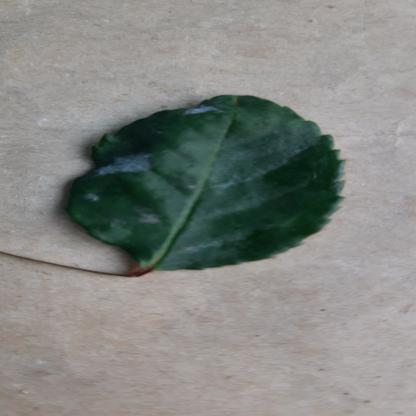powdery-mildew: (61, 94, 358, 272)
